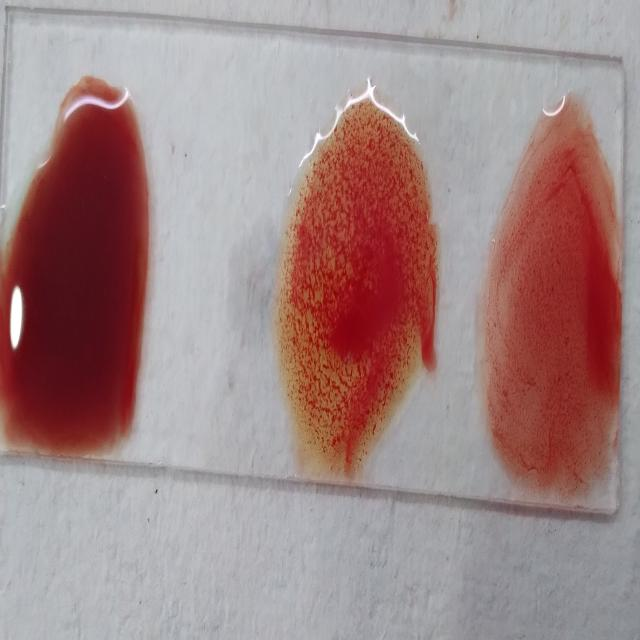B: (278, 76, 435, 476)
D: (490, 104, 620, 503)
